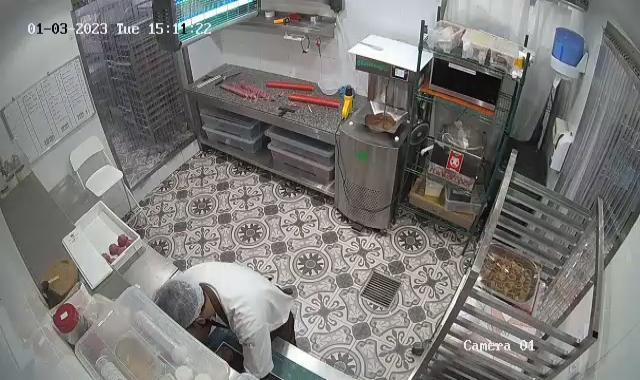hairnet: (150, 279, 206, 332)
